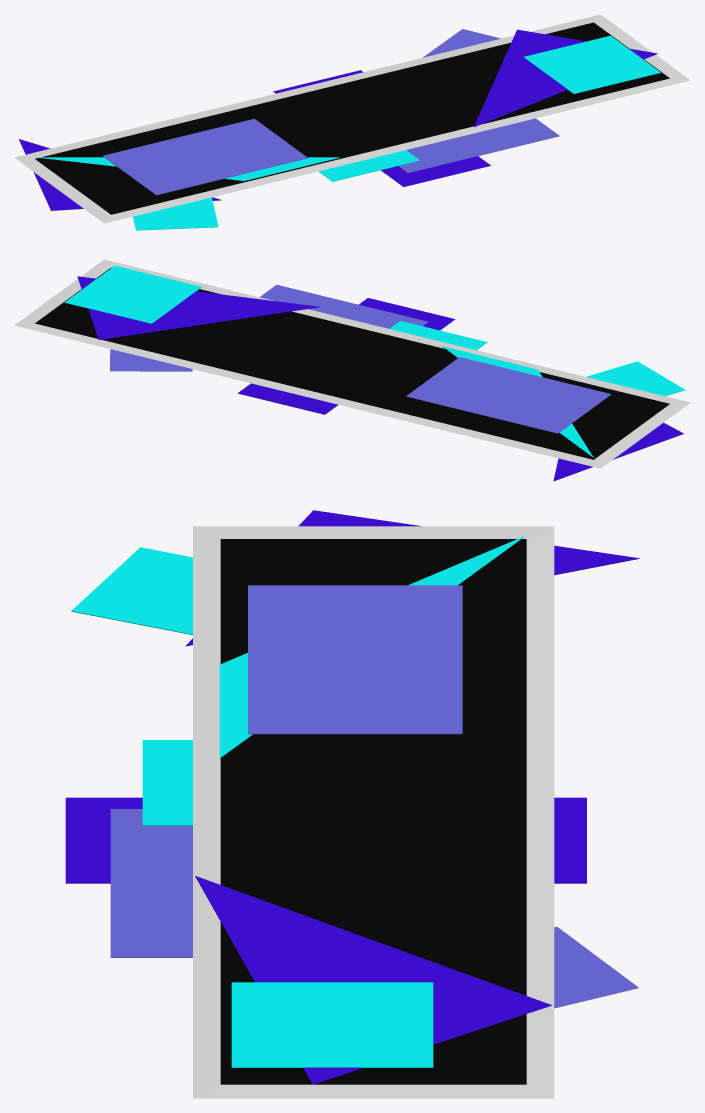
The model's file is boutonVide.fbx.
The picture shows the model from 3 angles, top to bottom: view 1: azimuth 30°, elevation 25°; view 2: azimuth 150°, elevation 25°; view 3: azimuth 270°, elevation 25°; orthographic projection. The views are drawn at different scales.
Visible parts, largest first — view 1: Cube, Cube.004, Cube.005, Cube.002, Cube.008, Cube.007, Cube.006, Cube.001, Cube.009, Cube.003, Cube.010; view 2: Cube, Cube.004, Cube.005, Cube.002, Cube.008, Cube.006, Cube.007, Cube.003, Cube.010, Cube.009, Cube.001; view 3: Cube, Cube.004, Cube.005, Cube.002, Cube.008, Cube.006, Cube.007, Cube.001, Cube.009, Cube.010, Cube.003.
Boxes of the visible parts, x1,y1,x2,y2 form: Cube: (14, 14, 690, 223); Cube.004: (103, 118, 307, 195); Cube.005: (474, 29, 657, 127); Cube.002: (524, 35, 660, 93); Cube.008: (398, 118, 559, 173); Cube.007: (133, 197, 218, 230); Cube.006: (273, 70, 490, 186); Cube.001: (318, 150, 419, 181); Cube.009: (36, 157, 339, 181); Cube.003: (19, 139, 221, 210); Cube.010: (422, 29, 500, 57); Cube: (14, 259, 690, 468); Cube.004: (406, 357, 611, 433); Cube.005: (77, 276, 319, 339); Cube.002: (64, 265, 201, 323); Cube.008: (260, 284, 428, 328); Cube.006: (237, 298, 455, 414); Cube.007: (586, 361, 685, 396); Cube.003: (553, 422, 683, 481); Cube.010: (110, 349, 192, 371); Cube.009: (442, 346, 593, 457); Cube.001: (389, 321, 487, 350); Cube: (193, 526, 554, 1098); Cube.004: (248, 585, 462, 734); Cube.005: (195, 876, 551, 1084); Cube.002: (231, 982, 433, 1067); Cube.008: (110, 809, 192, 957); Cube.006: (65, 797, 586, 883); Cube.007: (71, 547, 192, 634); Cube.001: (142, 740, 192, 825); Cube.009: (219, 535, 525, 758); Cube.010: (554, 926, 638, 1008); Cube.003: (186, 510, 639, 646).
Size of the model in its own units: 349 by 6.2 by 142.
